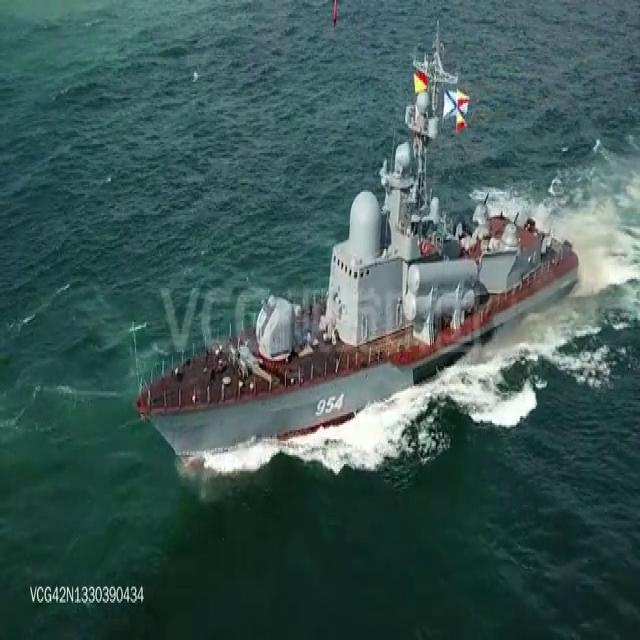navalvessels: (135, 29, 577, 463)
